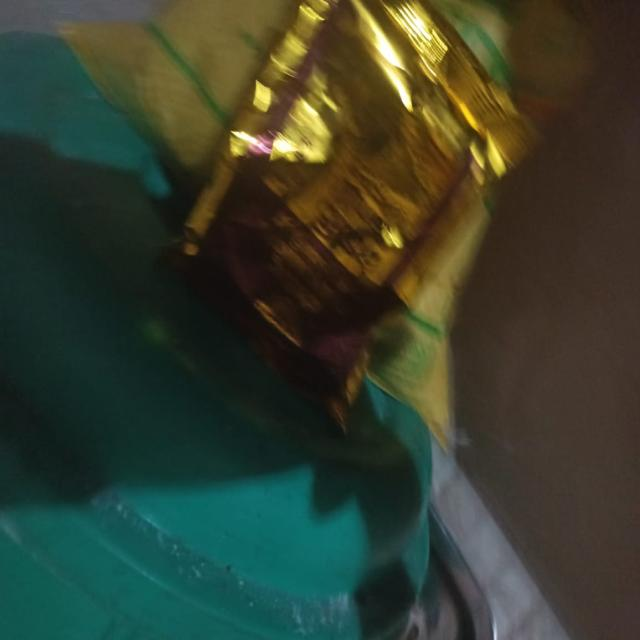Harischandra Coffee: (189, 0, 500, 406)
